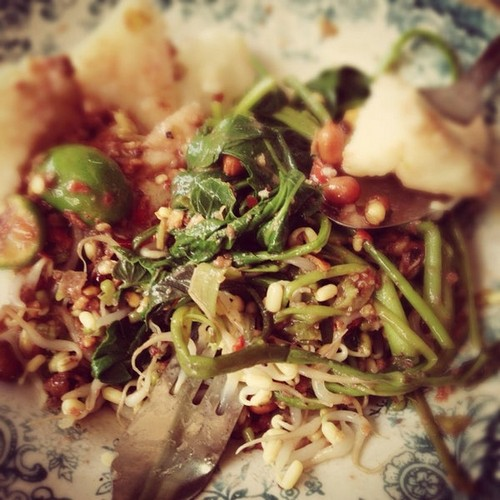serombotan: (19, 178, 427, 488)
